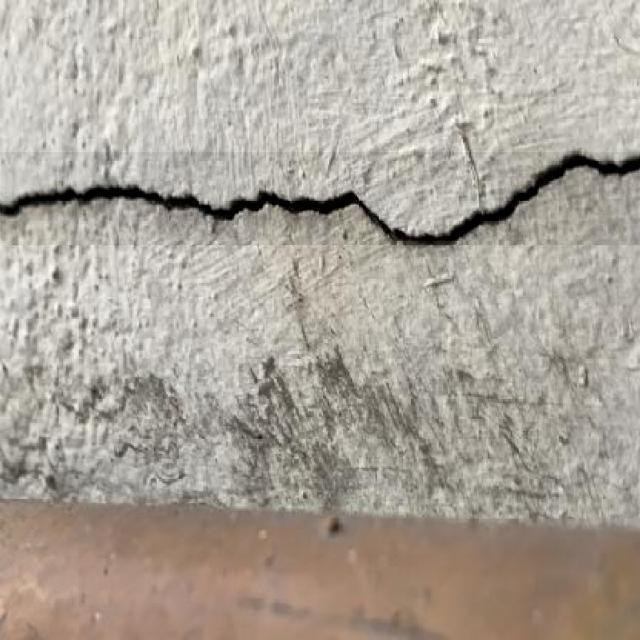crack: (9, 169, 629, 270), (4, 181, 275, 224), (0, 148, 312, 161)
